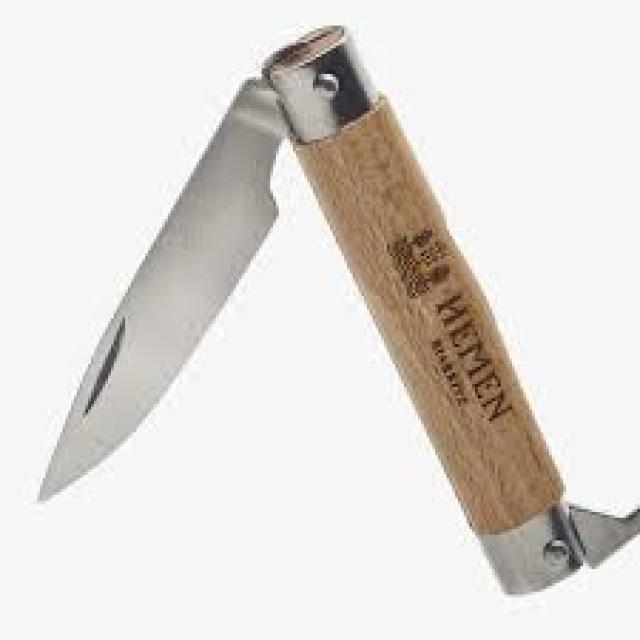knives: (16, 28, 318, 537)
